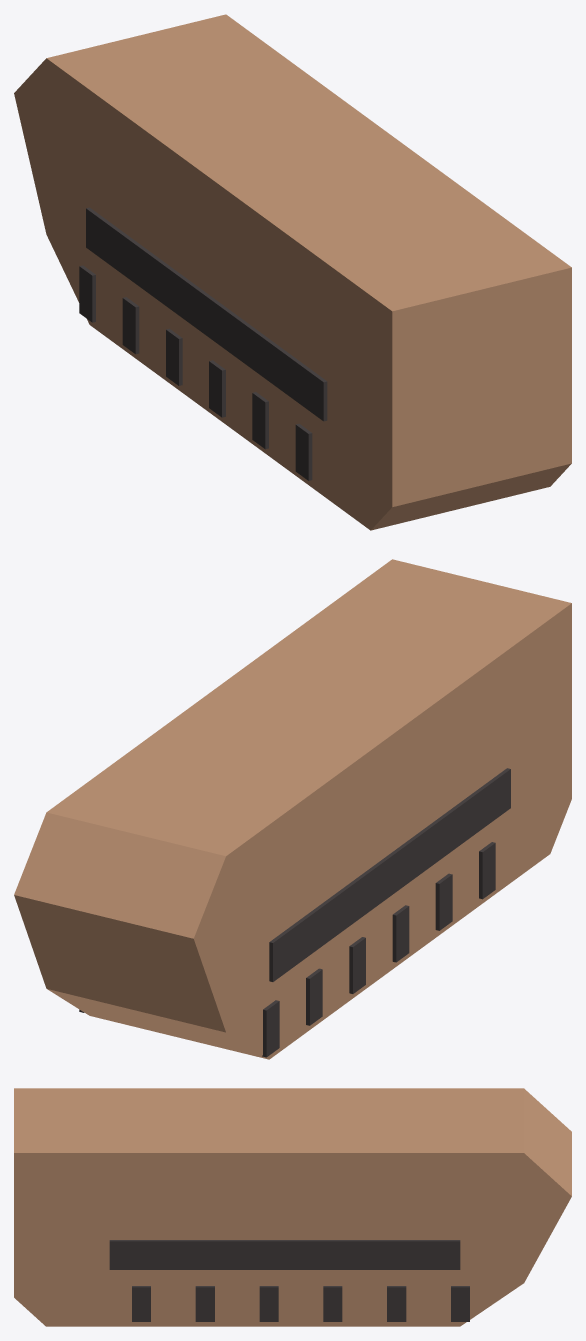
The model's file is grenade_launcher_forend.glb.
The picture shows the model from 3 angles, top to bottom: view 1: azimuth 30°, elevation 25°; view 2: azimuth 150°, elevation 25°; view 3: azimuth 270°, elevation 25°; orthographic projection. The views are drawn at different scales.
Visible parts, largest first — view 1: forend; view 2: forend; view 3: forend.
Part boxes in pixels (<box>): forend: <box>14,14,571,530</box>; forend: <box>14,559,571,1059</box>; forend: <box>14,1088,571,1326</box>.
Bounding box in the file's own units: 0.05 × 0.06 × 0.175.
